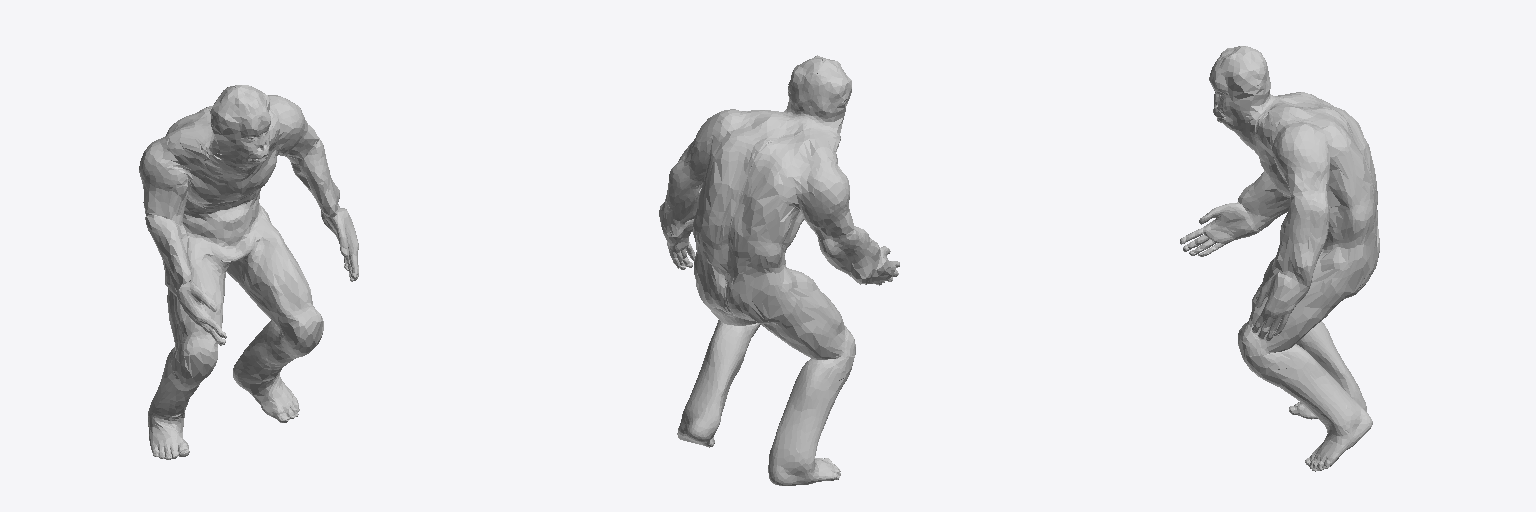
The model's file is Yeti_Running-bl.obj.
3 views of the same model, side by side, from view 1: azimuth 30°, elevation 25°; view 2: azimuth 150°, elevation 25°; view 3: azimuth 270°, elevation 25° (orthographic).
Parts seen in each view (by area): view 1: Group27054; view 2: Group27054; view 3: Group27054.
Part boxes in pixels (left/top/right/bottom): Group27054: left=139, top=85, right=358, bottom=459; Group27054: left=659, top=55, right=899, bottom=485; Group27054: left=1180, top=46, right=1379, bottom=471.
Size of the model in its own units: 3.47 by 6.45 by 3.05.